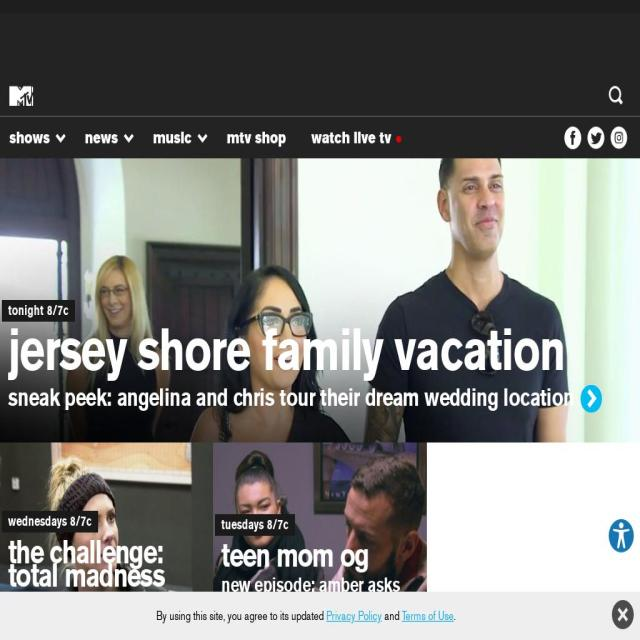button: (0, 158, 640, 444), (0, 442, 214, 640), (213, 442, 427, 640), (302, 117, 411, 158), (217, 117, 302, 158), (0, 117, 76, 158), (144, 117, 218, 158), (75, 117, 144, 158), (564, 126, 582, 149), (610, 126, 628, 149), (588, 126, 604, 149)
image: (0, 158, 640, 442), (0, 442, 214, 640), (213, 442, 427, 640), (0, 117, 640, 158), (612, 600, 634, 629), (580, 385, 602, 413), (159, 620, 170, 635), (316, 620, 326, 635)
link: (326, 608, 382, 624), (402, 608, 454, 624)
text: (0, 75, 640, 117), (8, 329, 632, 372), (8, 382, 574, 413), (221, 574, 401, 635), (8, 541, 206, 588), (8, 594, 196, 635), (221, 544, 419, 568), (156, 608, 326, 624), (2, 511, 98, 533), (215, 514, 296, 537), (2, 299, 75, 322), (382, 608, 402, 624), (454, 608, 456, 624)
